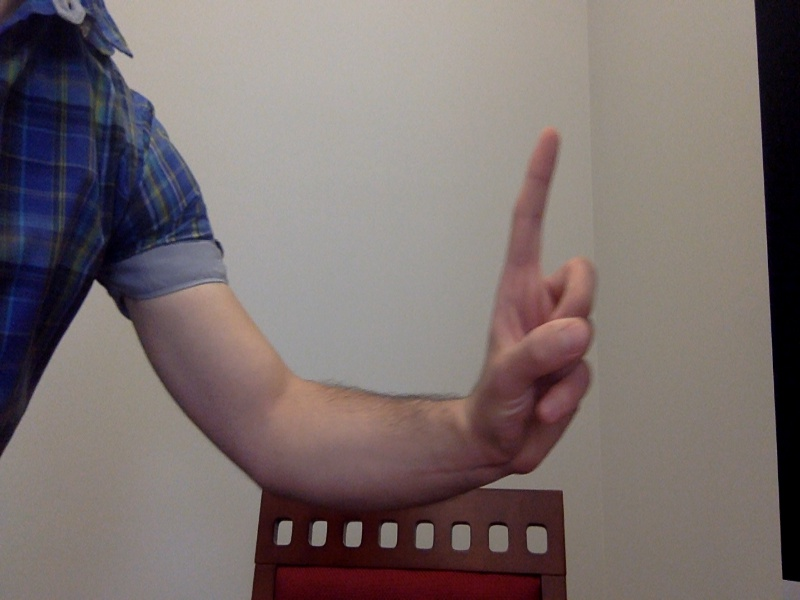1-hand: (480, 126, 601, 473)
